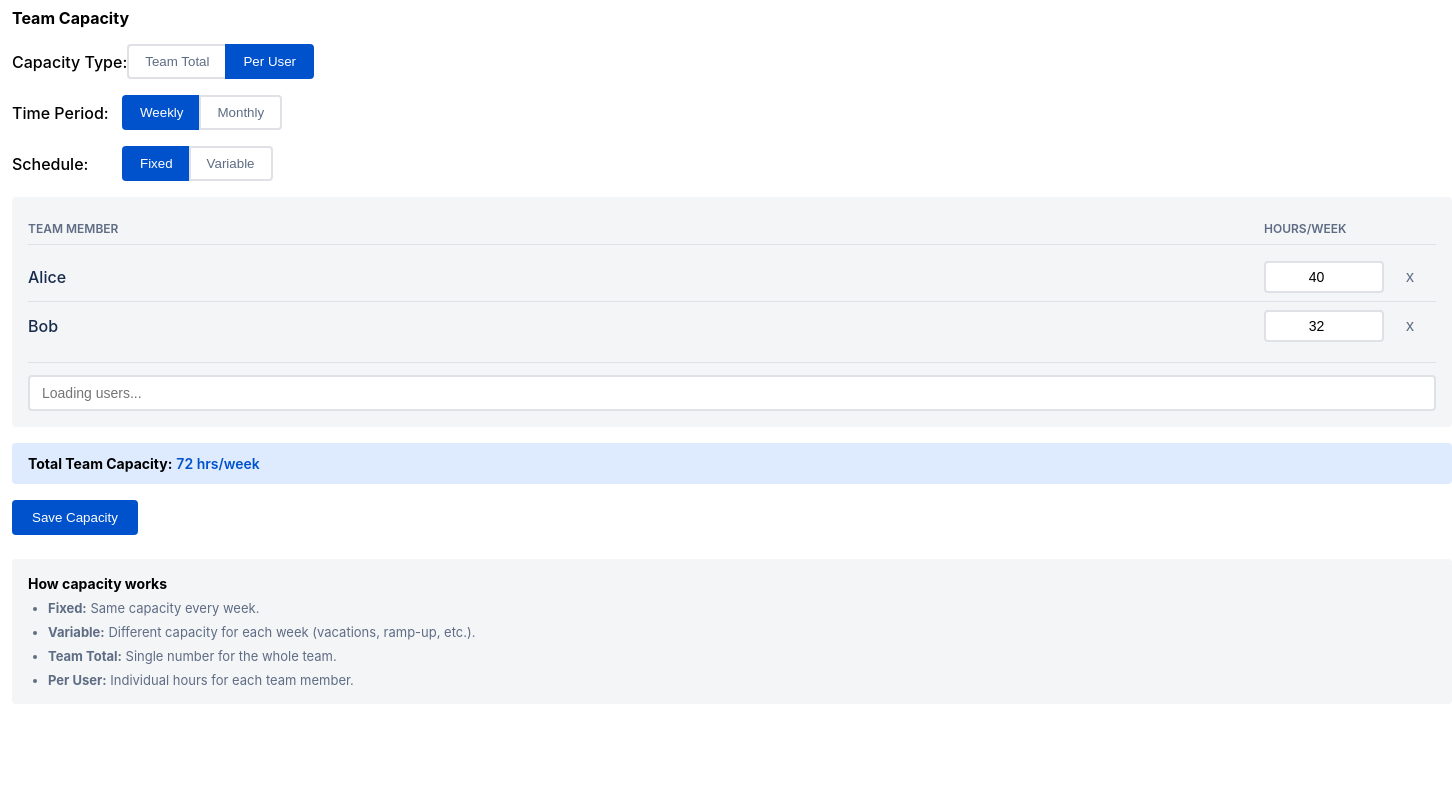
Test: CapacityPanel › Fixed Per User Capacity › can update member hours
Replace the text in the number field showing "40" in the row of "Alice" with "48" at x=1324, y=277, box [1264,261,1384,293]
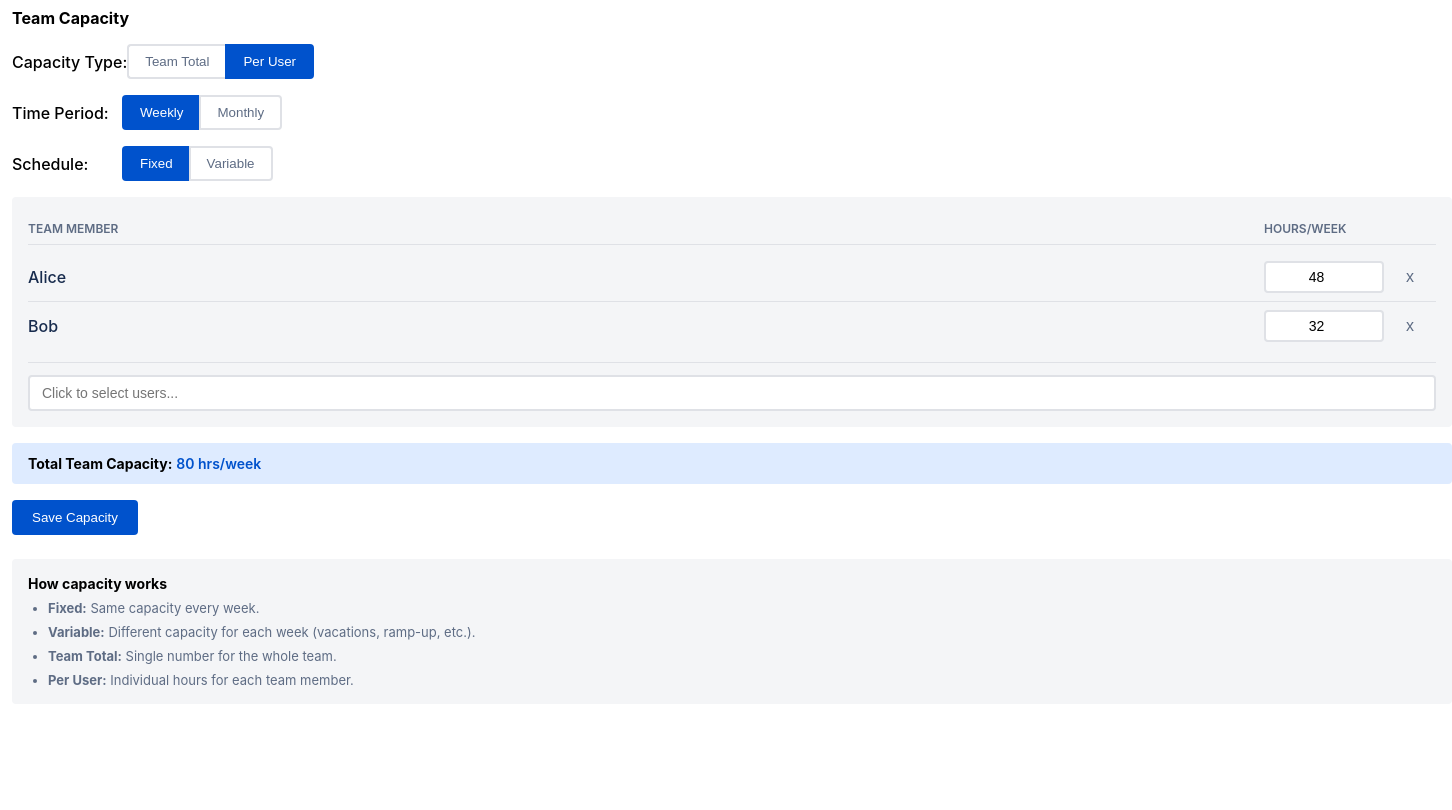
Now the text "80 hrs/week" is shown, box [176,455,261,472]
